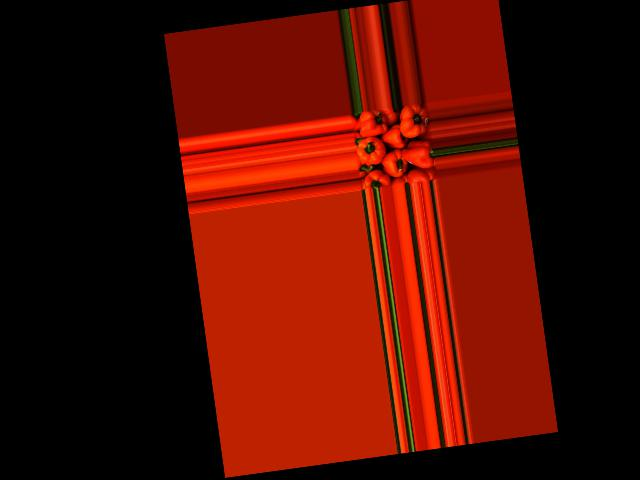bell_pepper: (405, 166, 438, 183)
